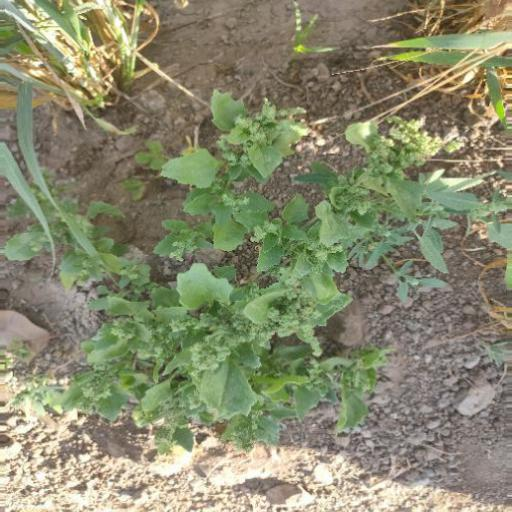weed: (34, 124, 501, 454), (1, 5, 168, 128)
